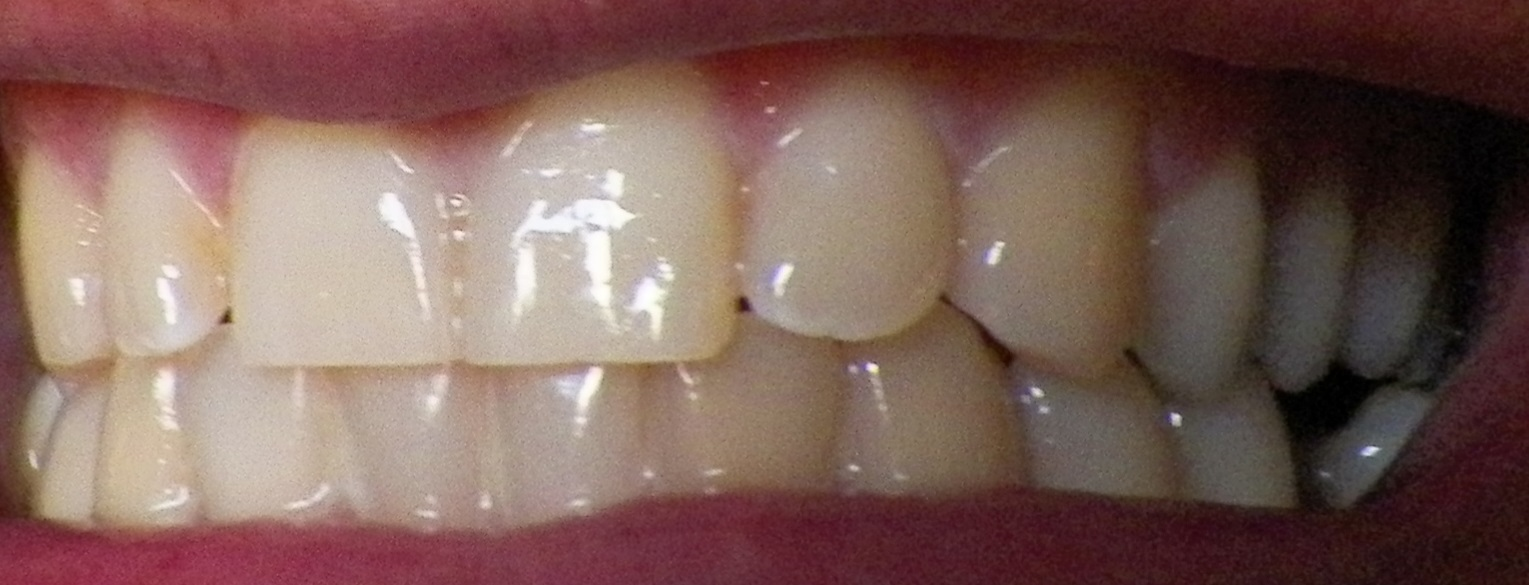boca: (5, 92, 1419, 514)
